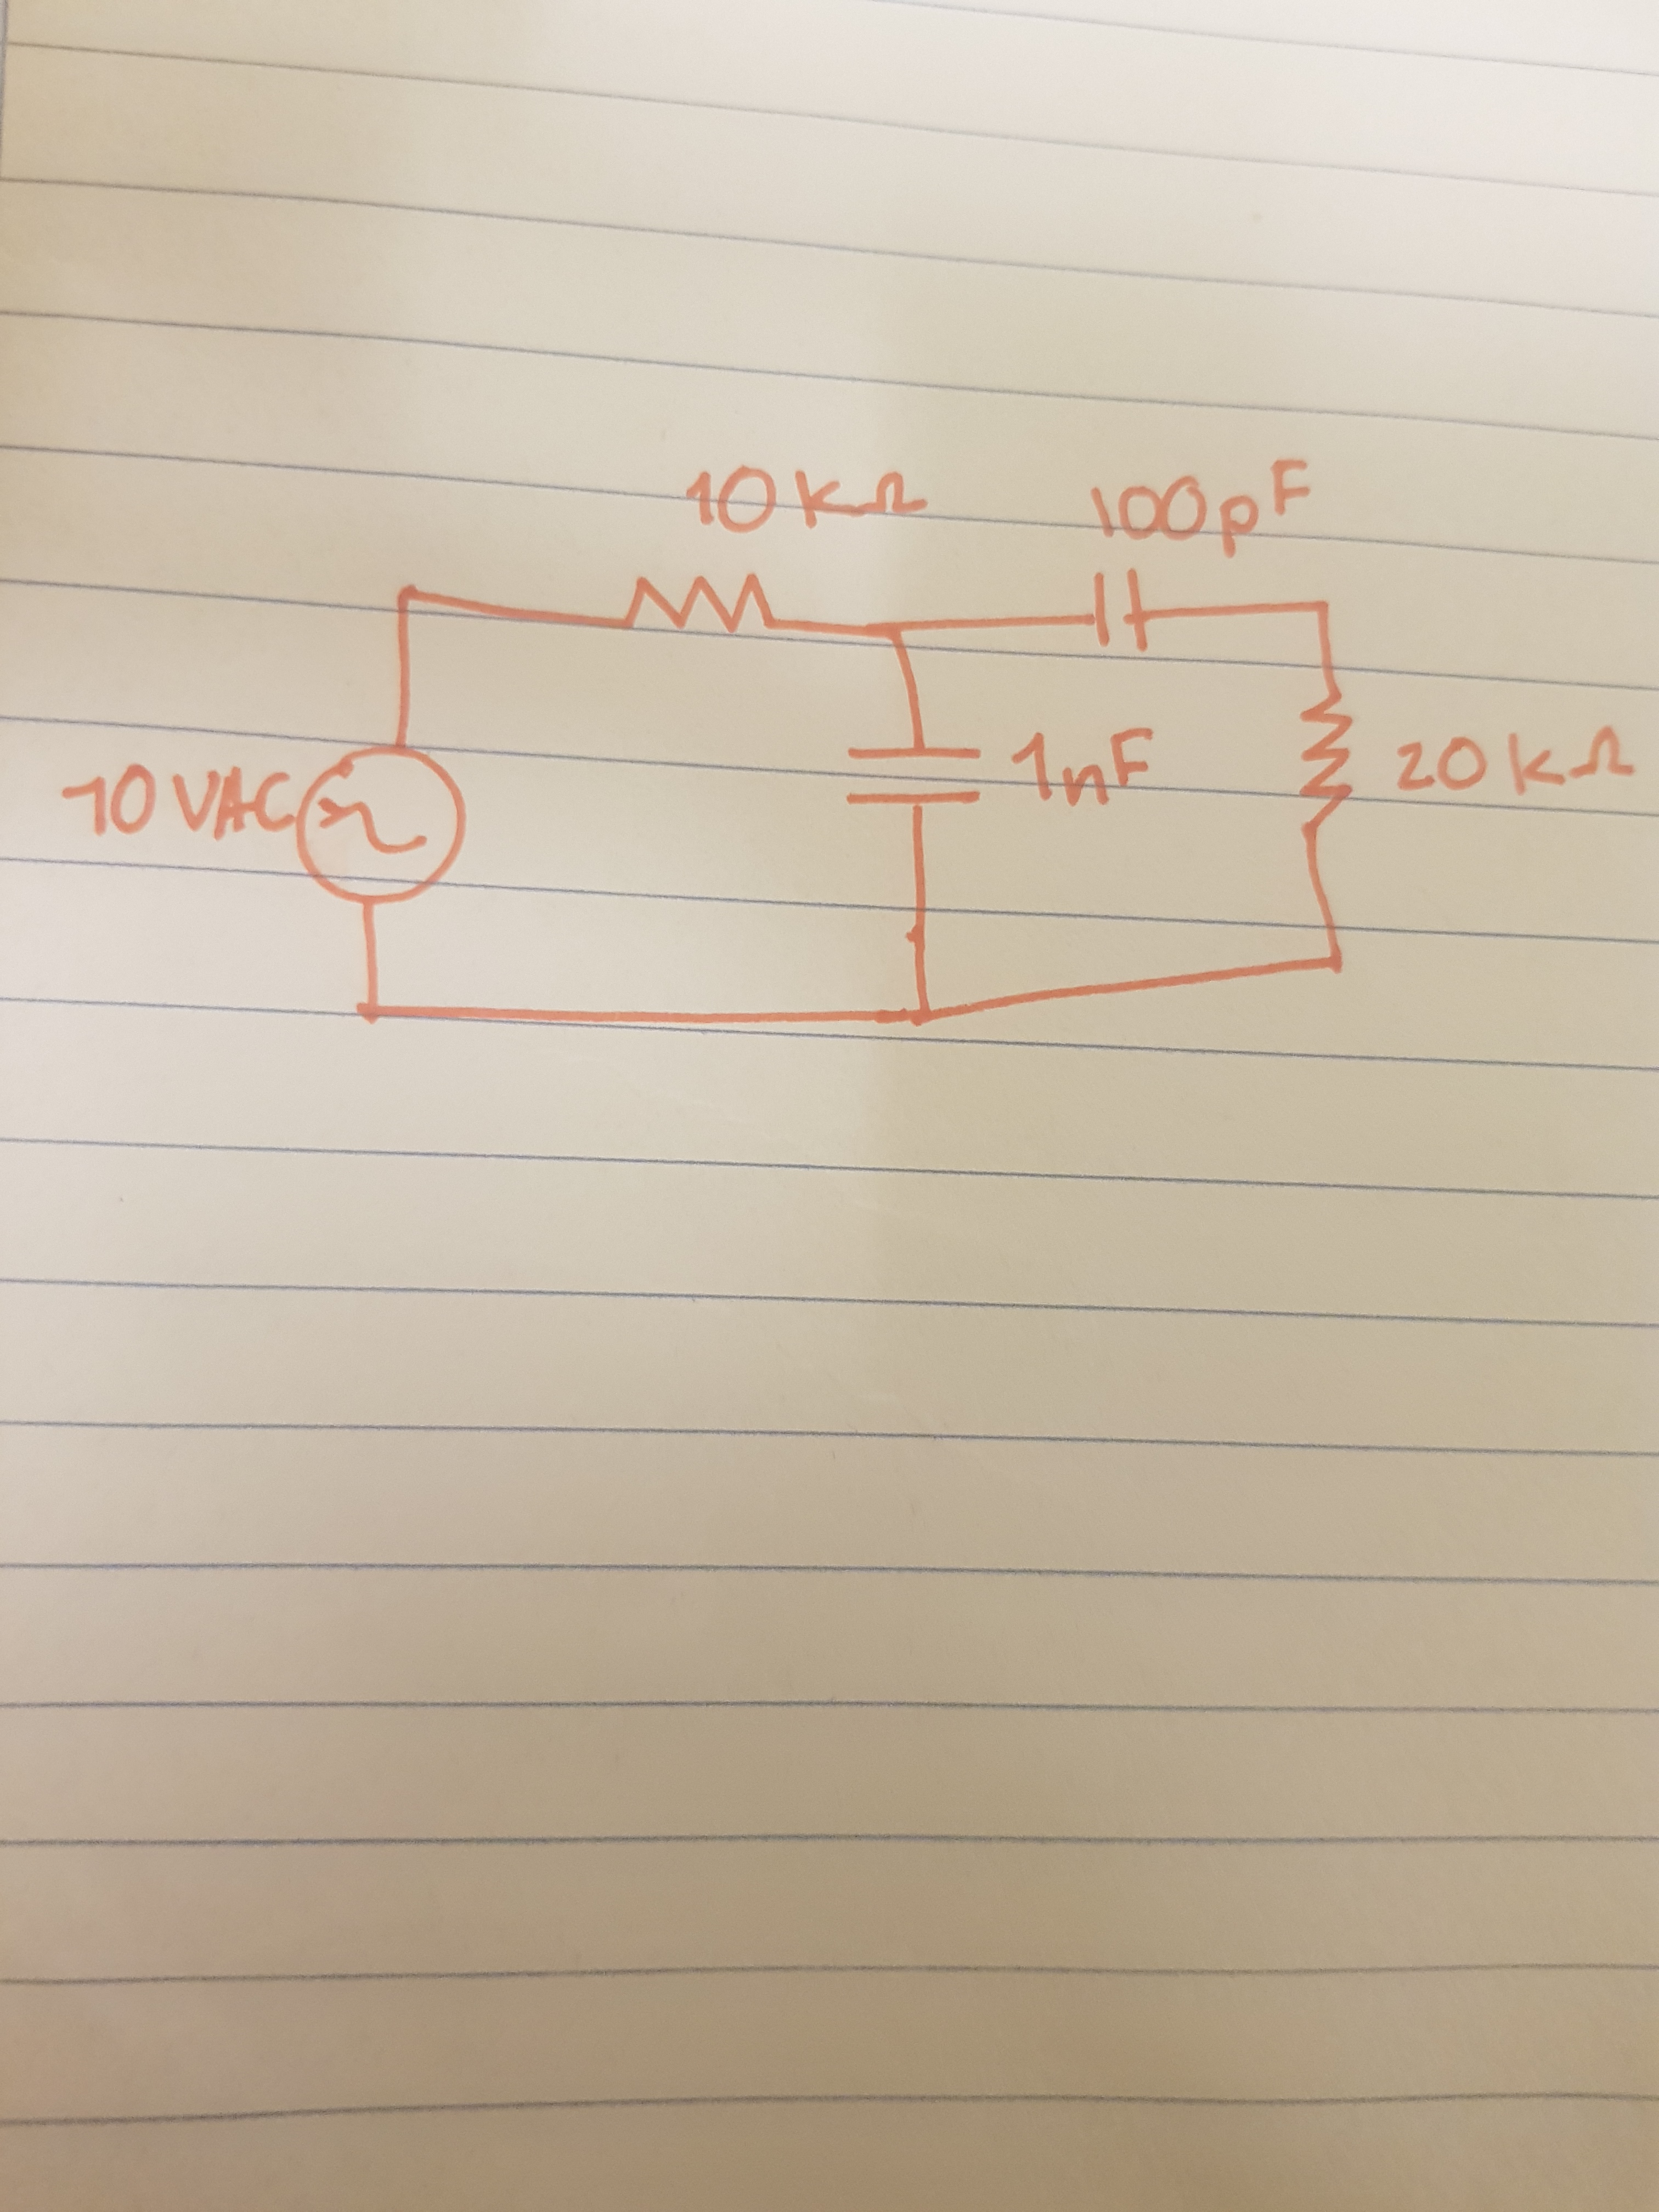capacitor.unpolarized: (826, 723, 1014, 829), (1070, 556, 1183, 679)
junction: (868, 608, 929, 658), (352, 981, 399, 1045), (383, 570, 437, 624), (1309, 939, 1359, 991), (901, 989, 945, 1042), (1304, 587, 1347, 629)
resistor: (624, 557, 775, 662), (1286, 697, 1368, 833)
text: (1087, 449, 1314, 556), (678, 448, 938, 536), (1391, 719, 1640, 799), (54, 766, 307, 841), (1014, 723, 1159, 810)
voltage.dc: (291, 738, 477, 916)
